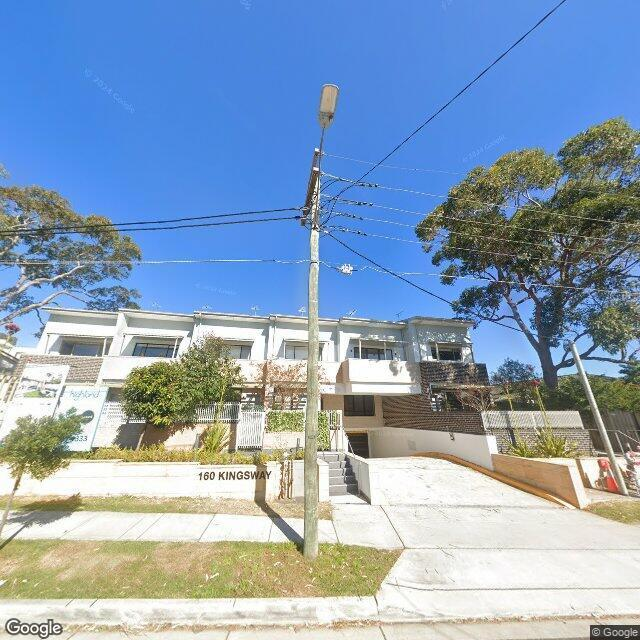crossarm: (302, 148, 321, 226)
steel-pole: (570, 342, 628, 496)
streetlight: (313, 84, 340, 230)
timber-pole: (303, 148, 322, 559)
